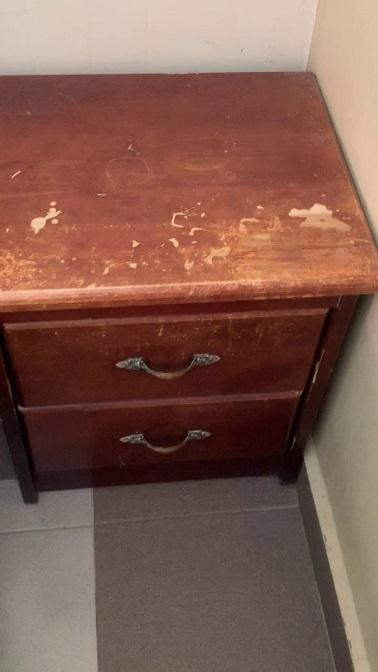cabinet_door: (10, 304, 317, 400), (20, 402, 312, 489)
handle: (114, 344, 219, 392), (117, 423, 212, 462)
